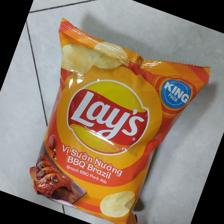Lays: (28, 17, 213, 224)
